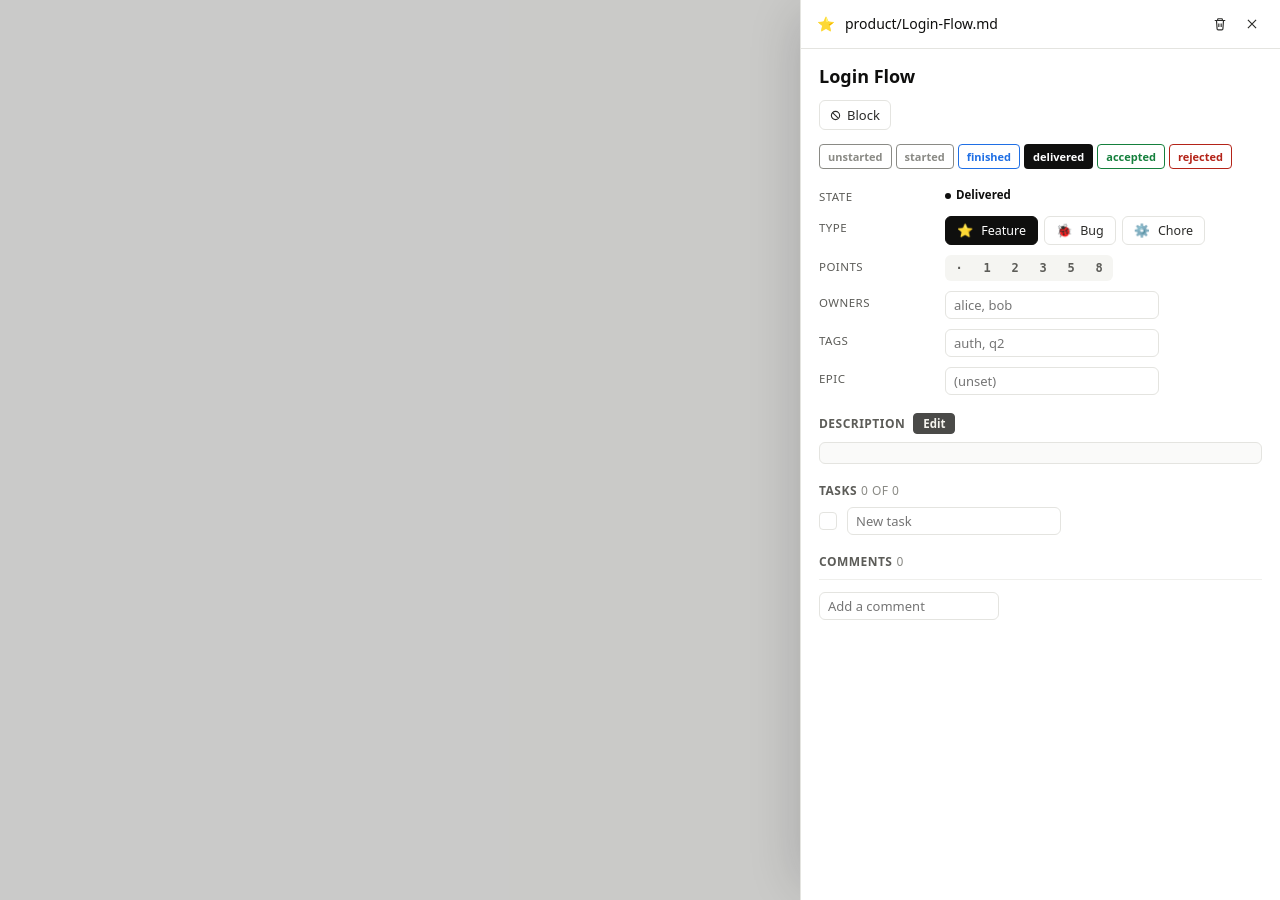
Test case: DetailPanel: state-machine buttons › opening Delete closes any other ceremony that was open
// Open the Accept ceremony first.
Click the button "accepted" at coordinates (1131, 157), box [1097,144,1165,169]
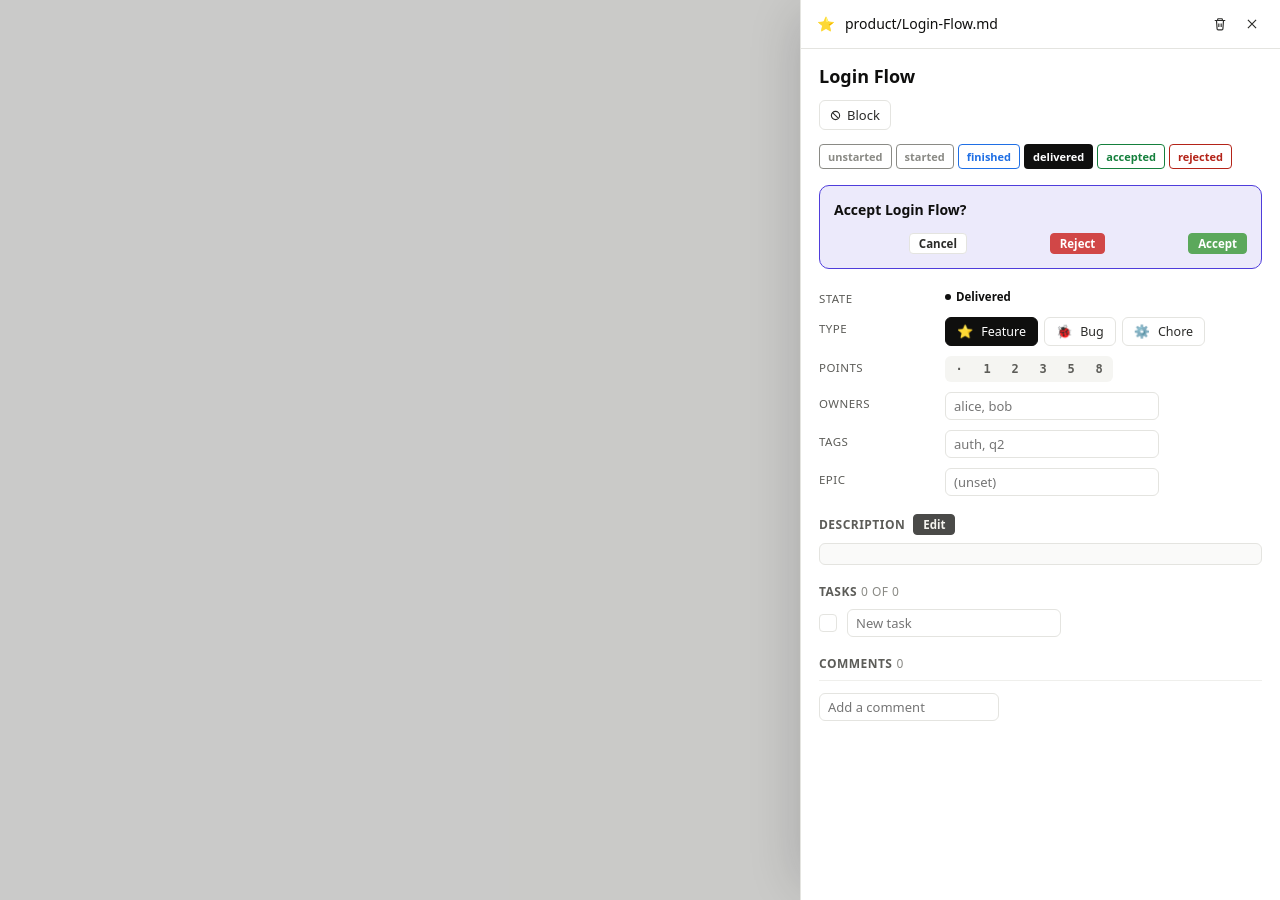
Expected: the dialog named "PM acceptance ceremony" is shown, [819,185,1262,269]
// Then open Delete. Accept should close.
Click the button named "Delete story" at coordinates (1220, 24), box [1206,10,1234,38]
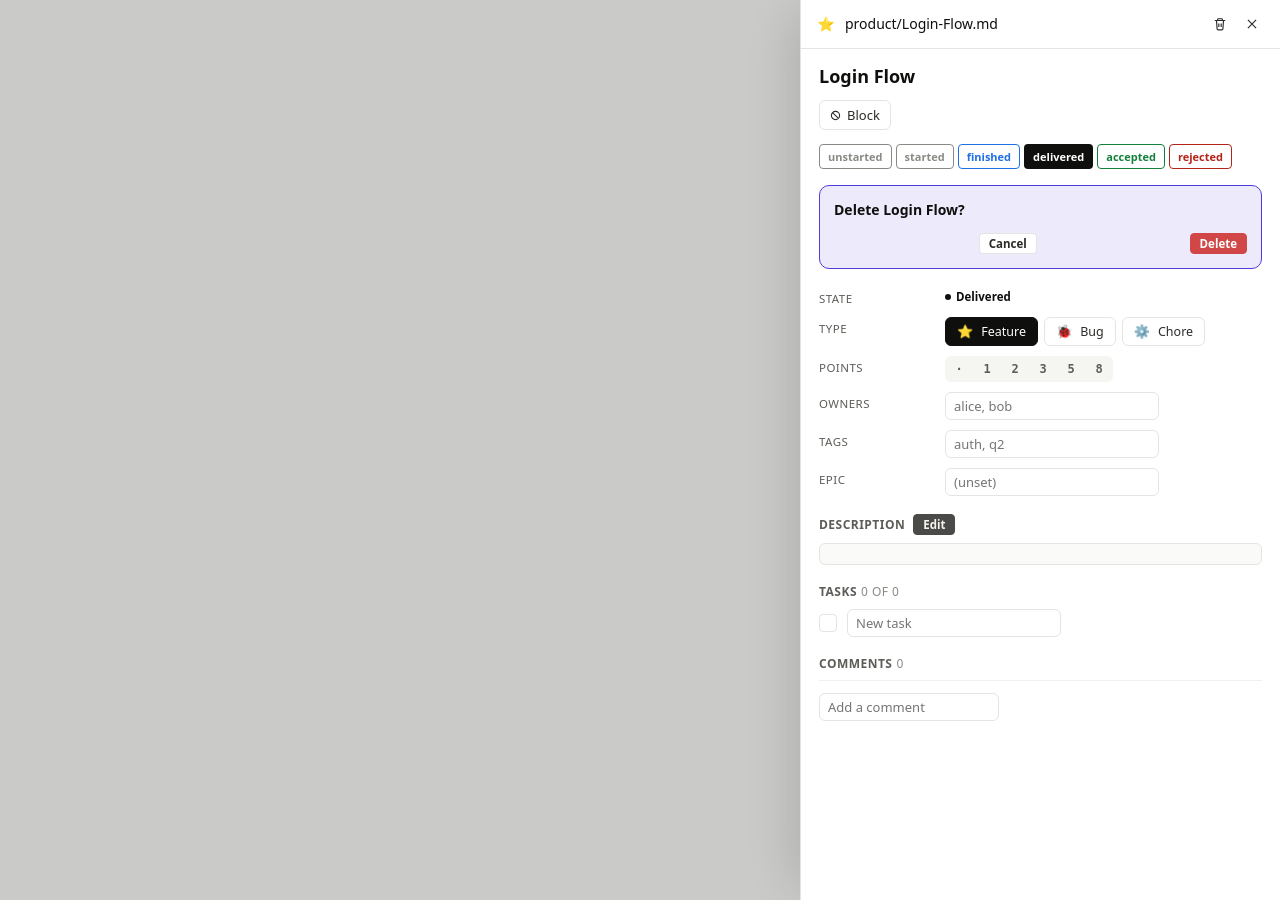
Expected: the dialog named "Confirm delete" is shown, [819,185,1262,269]
